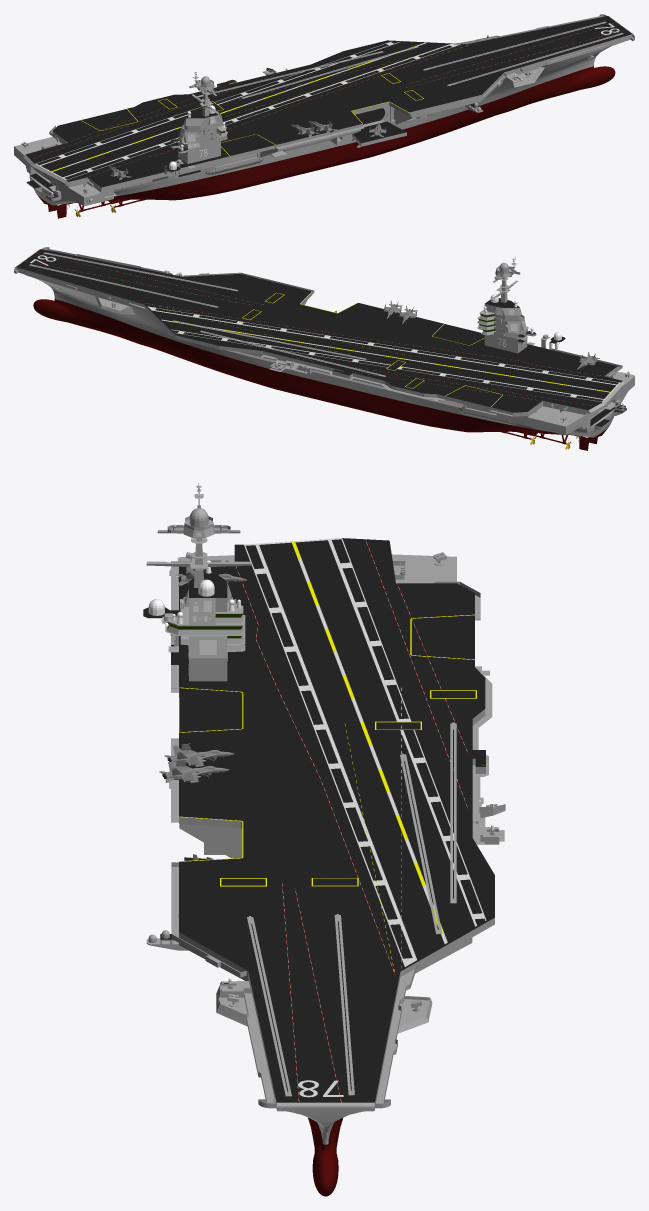
The model's file is geraldford.glb.
The picture shows the model from 3 angles, top to bottom: view 1: azimuth 30°, elevation 25°; view 2: azimuth 150°, elevation 25°; view 3: azimuth 270°, elevation 25°; orthographic projection. The views are drawn at different scales.
Parts seen in each view (by area): view 1: _G-Object.039 (Loose Mesh), _C-hull (Loose Mesh), _C-Group#105 (Loose Mesh), _G-Object.003 (Loose Mesh), _C-Elevator_cvn78 (Loose Mesh).001, G-Object.245, _C-Elevator_cvn78 (Loose Mesh).002, _C-Elevator_cvn78 (Loose Mesh), _G-Object.249 (Loose Mesh), C-bow, G-Object.244, C-elevator (+8 smaller); view 2: _G-Object.039 (Loose Mesh), _C-hull (Loose Mesh), _C-Group#105 (Loose Mesh), _G-Object.003 (Loose Mesh), G-Object.244, _C-Elevator_cvn78 (Loose Mesh), G-Object.248, _C-Elevator_cvn78 (Loose Mesh).001, C-bow, _G-Object (Loose Mesh), C-elevator#1, G-Group#459 (+5 smaller); view 3: _G-Object.039 (Loose Mesh), _C-Group#105 (Loose Mesh), _G-Object.003 (Loose Mesh), _C-Elevator_cvn78 (Loose Mesh), _C-Elevator_cvn78 (Loose Mesh).001, _G-Object (Loose Mesh), G-Object.244, _G-Object.249 (Loose Mesh), G-Group#459, G-Group#457, G-Group#456, _C-hull (Loose Mesh) (+3 smaller).
Boxes of the visible parts, <box> form: _G-Object.039 (Loose Mesh): <box>23,14,634,192</box>; _C-hull (Loose Mesh): <box>26,42,622,205</box>; _C-Group#105 (Loose Mesh): <box>35,27,613,180</box>; _G-Object.003 (Loose Mesh): <box>177,109,227,163</box>; _C-Elevator_cvn78 (Loose Mesh).001: <box>221,134,275,159</box>; G-Object.245: <box>59,181,113,206</box>; _C-Elevator_cvn78 (Loose Mesh).002: <box>352,121,406,146</box>; _C-Elevator_cvn78 (Loose Mesh): <box>81,109,137,130</box>; _G-Object.249 (Loose Mesh): <box>259,129,360,157</box>; C-bow: <box>570,66,615,89</box>; G-Object.244: <box>14,137,64,173</box>; C-elevator: <box>205,152,263,174</box>; _G-Object.039 (Loose Mesh): <box>14,247,625,416</box>; _C-hull (Loose Mesh): <box>25,274,626,437</box>; _C-Group#105 (Loose Mesh): <box>37,253,620,406</box>; _G-Object.003 (Loose Mesh): <box>477,298,528,353</box>; G-Object.244: <box>496,404,586,435</box>; _C-Elevator_cvn78 (Loose Mesh): <box>445,386,502,410</box>; G-Object.248: <box>148,312,462,408</box>; _C-Elevator_cvn78 (Loose Mesh).001: <box>433,324,484,345</box>; C-bow: <box>33,299,77,322</box>; _G-Object (Loose Mesh): <box>490,266,520,302</box>; C-elevator#1: <box>457,404,517,425</box>; G-Group#459: <box>172,320,366,359</box>; _G-Object.039 (Loose Mesh): <box>168,538,505,1111</box>; _C-Group#105 (Loose Mesh): <box>236,538,486,1102</box>; _G-Object.003 (Loose Mesh): <box>165,569,245,681</box>; _C-Elevator_cvn78 (Loose Mesh): <box>411,615,474,659</box>; _C-Elevator_cvn78 (Loose Mesh).001: <box>179,688,242,732</box>; _G-Object (Loose Mesh): <box>146,505,251,587</box>; G-Object.244: <box>391,554,456,583</box>; _G-Object.249 (Loose Mesh): <box>179,824,242,858</box>; G-Group#459: <box>400,753,442,934</box>; G-Group#457: <box>334,914,354,1095</box>; G-Group#456: <box>247,916,291,1096</box>; _C-hull (Loose Mesh): <box>287,1111,364,1150</box>.
Bounding box in the file's own units: 339 × 80.43 × 90.98.
